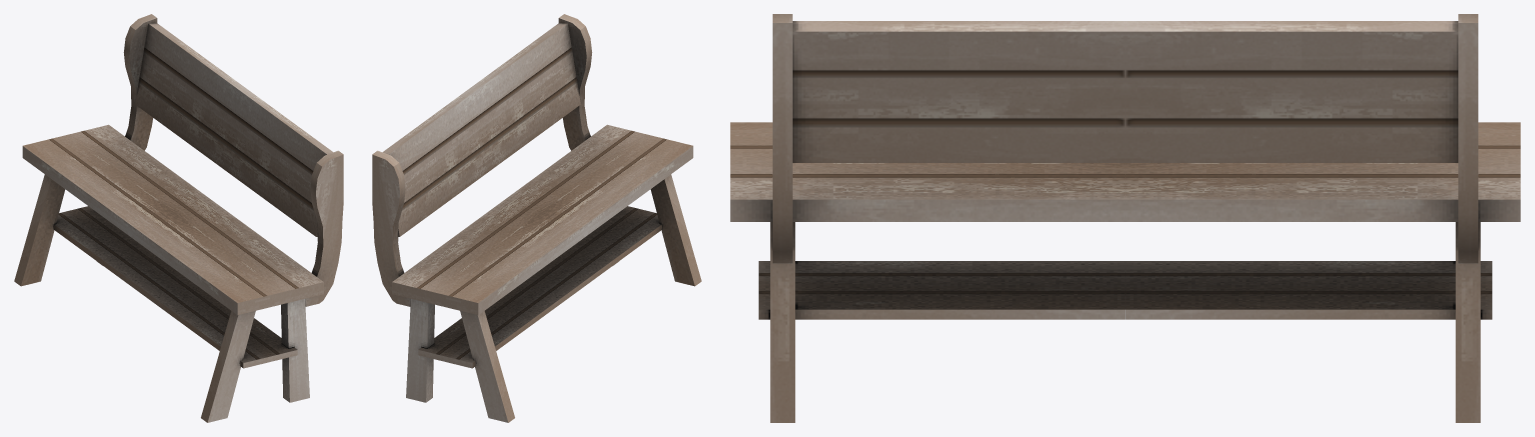
Rendered from SM_Bench.FBX.
3 renders of one model, left to right at view 1: azimuth 30°, elevation 25°; view 2: azimuth 150°, elevation 25°; view 3: azimuth 270°, elevation 25°, orthographic. The views are drawn at different scales.
Parts seen in each view (by area): view 1: Bench; view 2: Bench; view 3: Bench.
Part boxes in pixels (bbox=[...]): Bench: bbox=[14, 14, 343, 422]; Bench: bbox=[372, 14, 701, 422]; Bench: bbox=[730, 14, 1520, 422].
Size of the model in its own units: 24.64 by 67 by 40.32.
